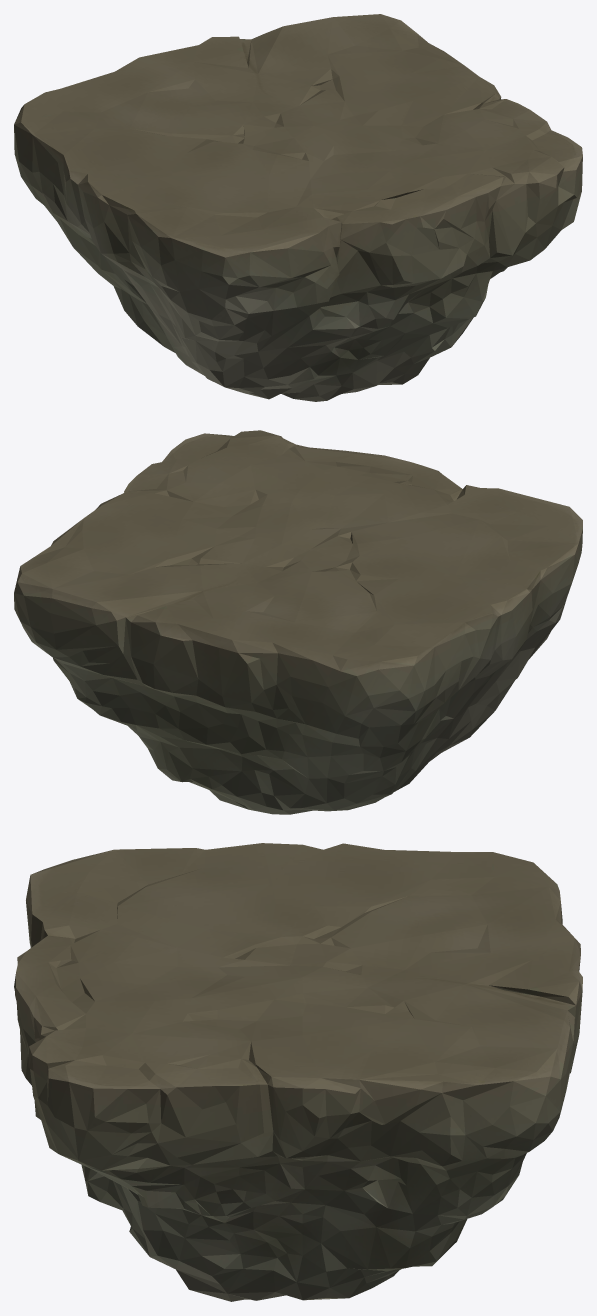
The model's file is plataforma1.glb.
The picture shows the model from 3 angles, top to bottom: view 1: azimuth 30°, elevation 25°; view 2: azimuth 150°, elevation 25°; view 3: azimuth 270°, elevation 25°; orthographic projection. The views are drawn at different scales.
Visible parts, largest first — view 1: tripo_node_afe80b47-ba12-4d49-b89b-b3472b1893b5; view 2: tripo_node_afe80b47-ba12-4d49-b89b-b3472b1893b5; view 3: tripo_node_afe80b47-ba12-4d49-b89b-b3472b1893b5.
Part boxes in pixels (<box>): tripo_node_afe80b47-ba12-4d49-b89b-b3472b1893b5: <box>14,14,582,401</box>; tripo_node_afe80b47-ba12-4d49-b89b-b3472b1893b5: <box>14,430,582,814</box>; tripo_node_afe80b47-ba12-4d49-b89b-b3472b1893b5: <box>14,843,582,1301</box>.
Bounding box in the file's own units: 0.998 × 0.5777 × 0.9771.
Materials: 1 (1 with a texture image).
